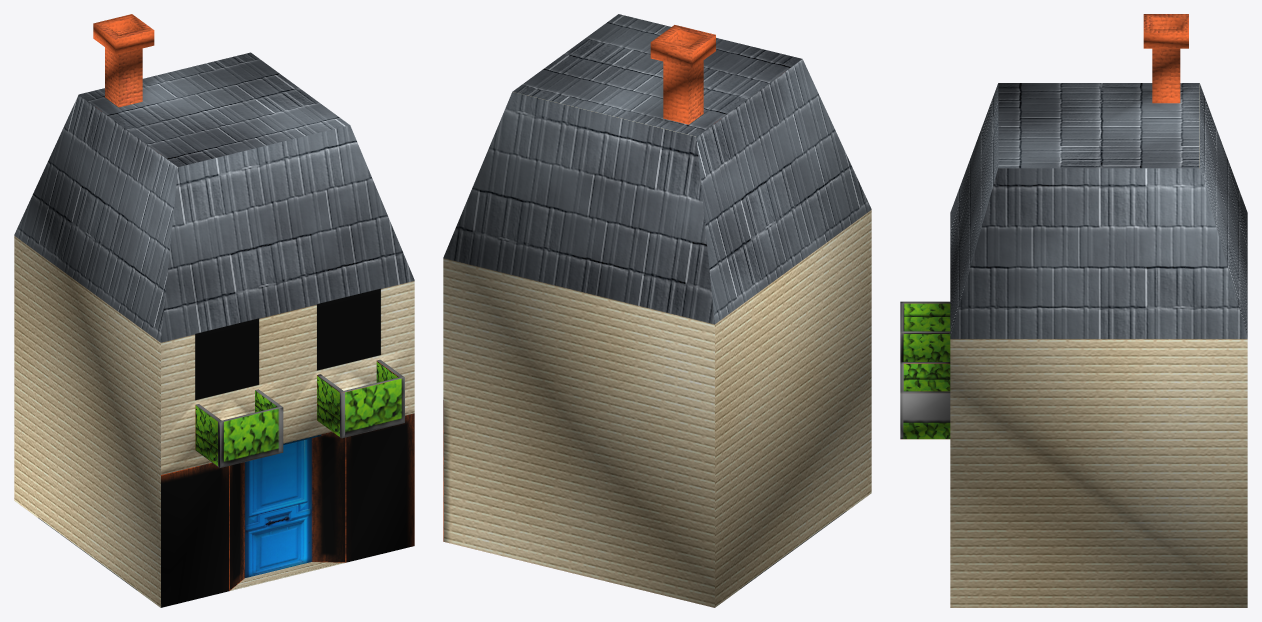
Rendered from building_07.obj.
3 renders of one model, left to right at view 1: azimuth 30°, elevation 25°; view 2: azimuth 150°, elevation 25°; view 3: azimuth 270°, elevation 25°, orthographic. The views are drawn at different scales.
Parts seen in each view (by area): view 1: Cube3; view 2: Cube3; view 3: Cube3.
Boxes of the visible parts, x1,y1,x2,y2 form: Cube3: (14,14,414,607); Cube3: (443,14,871,607); Cube3: (900,14,1247,607).
Size of the model in its own units: 274 by 501 by 320.
Materials: 1 (1 with a texture image).
